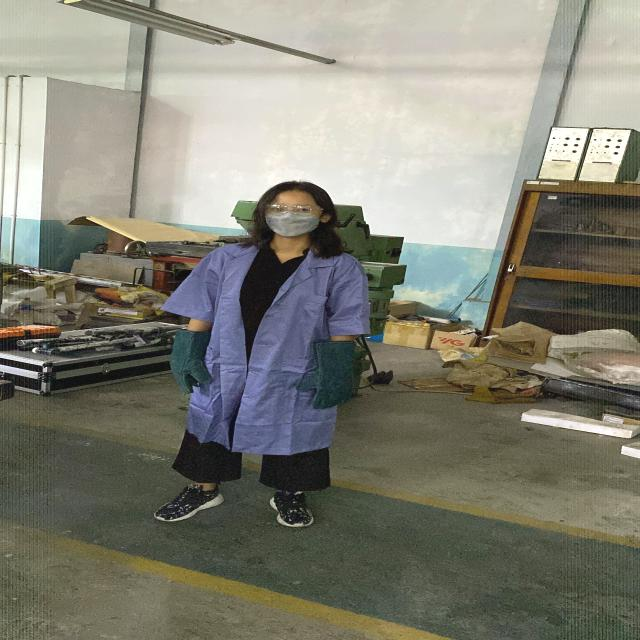face_mask: (264, 201, 324, 234)
glasses: (261, 202, 327, 217)
hand_glove: (291, 366, 358, 412), (165, 349, 222, 397)
head_nohelmet: (259, 178, 333, 202)
person: (146, 174, 378, 537)
shoes: (149, 478, 226, 524), (258, 486, 317, 530)
